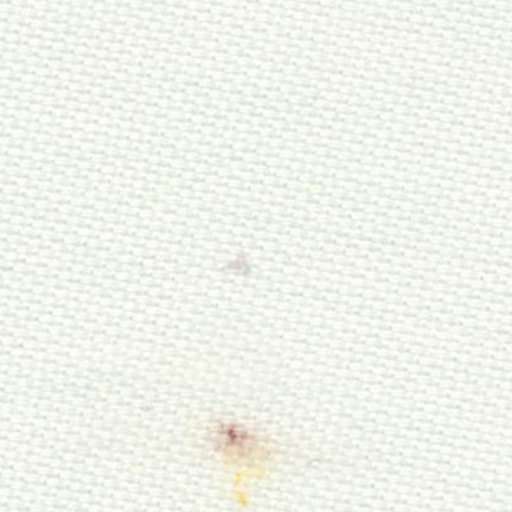WuZi: (190, 407, 292, 506), (208, 232, 264, 290)
